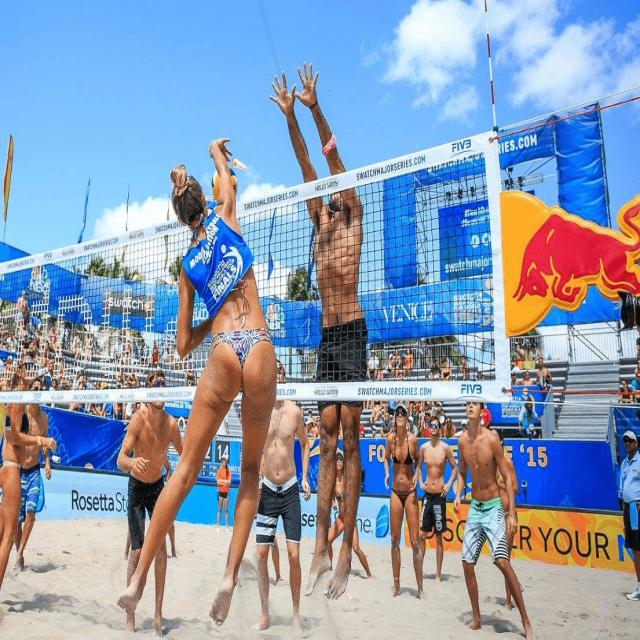body: (114, 136, 280, 628), (267, 55, 370, 602), (452, 401, 535, 640), (115, 368, 185, 639), (249, 358, 313, 639), (0, 289, 103, 426), (0, 351, 57, 594), (102, 333, 197, 455), (222, 427, 289, 591), (120, 400, 178, 564), (384, 400, 429, 606), (293, 383, 431, 449), (9, 377, 52, 579), (416, 414, 459, 584), (490, 427, 526, 613), (326, 448, 373, 580), (616, 427, 640, 604), (452, 366, 493, 440), (214, 453, 232, 534), (517, 394, 543, 439), (419, 400, 435, 448), (376, 341, 394, 383), (630, 326, 640, 400), (534, 355, 552, 387), (511, 340, 526, 378), (43, 361, 60, 392), (134, 336, 150, 368), (366, 348, 380, 380), (388, 348, 402, 380), (401, 346, 415, 378), (516, 369, 535, 392), (528, 341, 543, 369), (112, 335, 124, 369), (379, 411, 394, 438), (619, 378, 634, 404), (5, 329, 19, 355), (16, 290, 28, 320), (40, 341, 51, 373), (150, 340, 161, 371), (443, 416, 456, 438), (114, 367, 126, 390), (88, 331, 96, 365), (434, 401, 447, 421), (125, 372, 140, 389), (42, 341, 51, 369), (429, 357, 442, 375), (459, 354, 468, 380), (441, 358, 452, 379), (5, 355, 13, 382), (630, 371, 640, 392), (125, 338, 132, 366), (510, 372, 521, 386), (83, 332, 87, 352)
